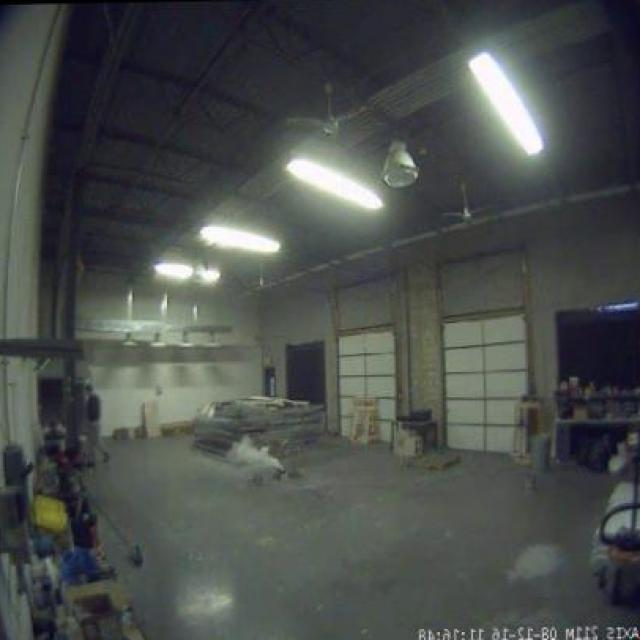fire: (218, 430, 291, 480)
